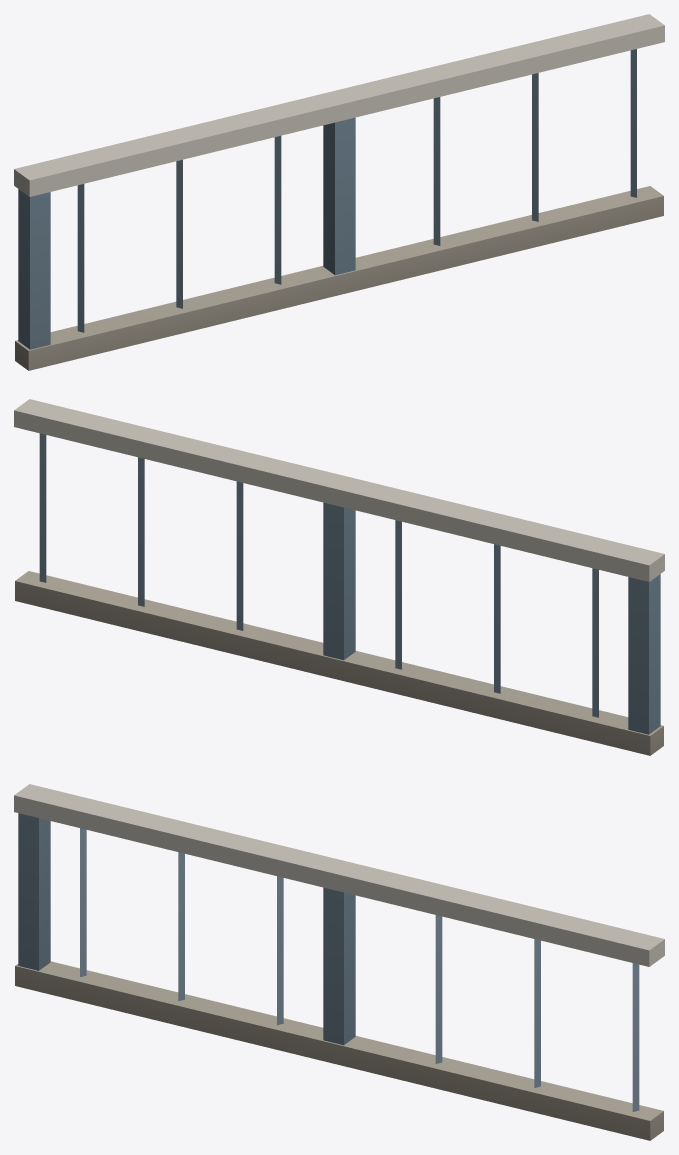
The model's file is rail.lod1.glb.
3 views of the same model, one above another, from view 1: azimuth 30°, elevation 25°; view 2: azimuth 150°, elevation 25°; view 3: azimuth 330°, elevation 25° (orthographic).
Size of the model in its own units: 4 by 1.15 by 0.17.
